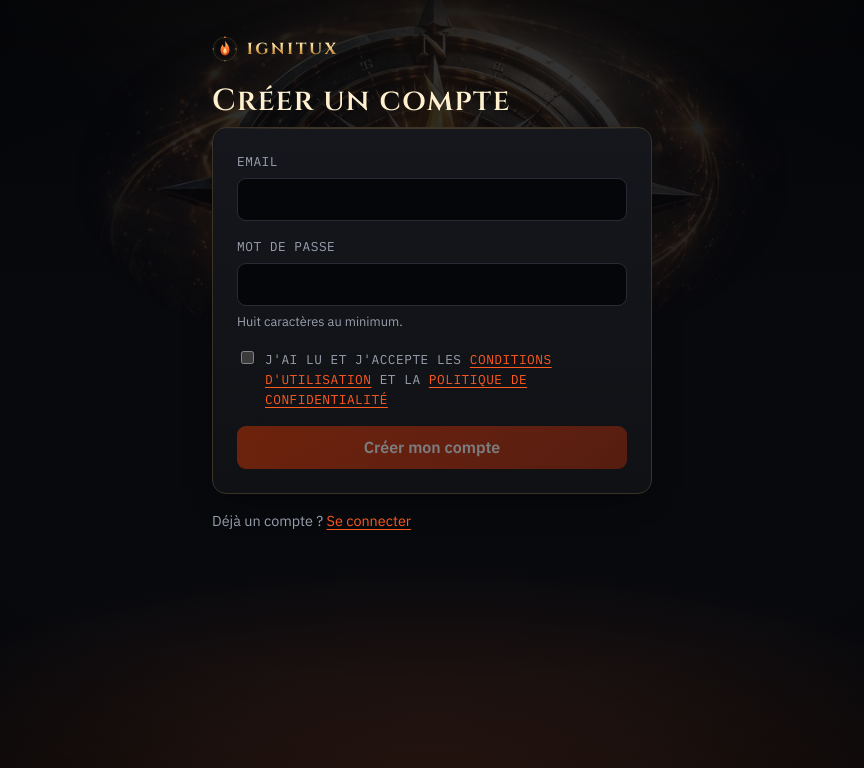
Test case: SignupPage › affiche le message du backend si l'email existe déjà
In the field labelled "Email": (432, 200) [237,178,627,221], type "a@b.com"
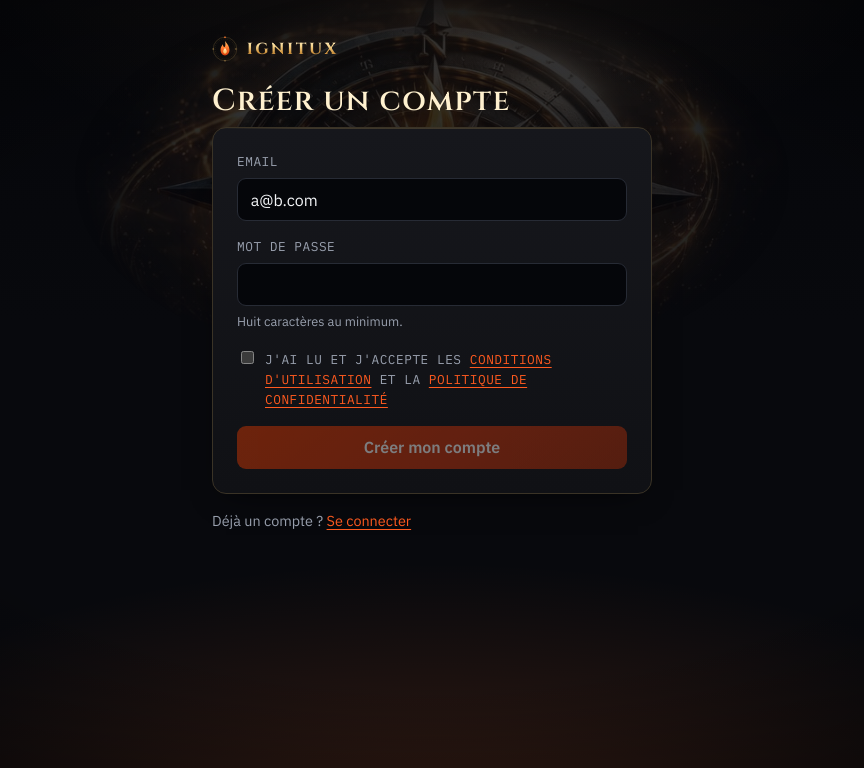
In the password field labelled "Mot de passe": (432, 285) [237,263,627,306], type "motdepasse"
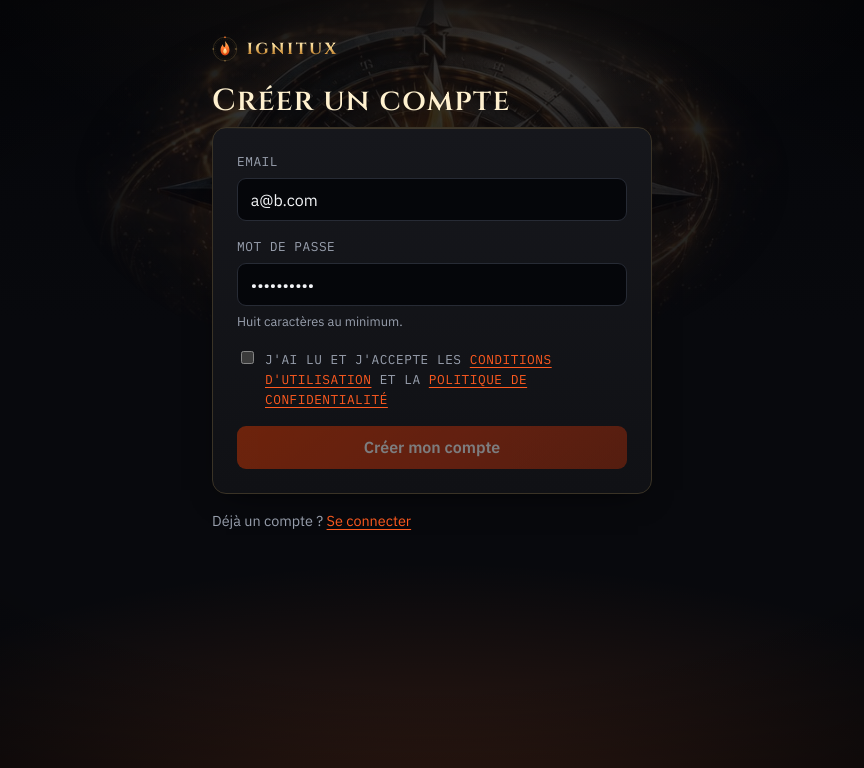
Click the checkbox labelled "J'ai lu et j'accepte": (248, 358) [241,351,254,364]
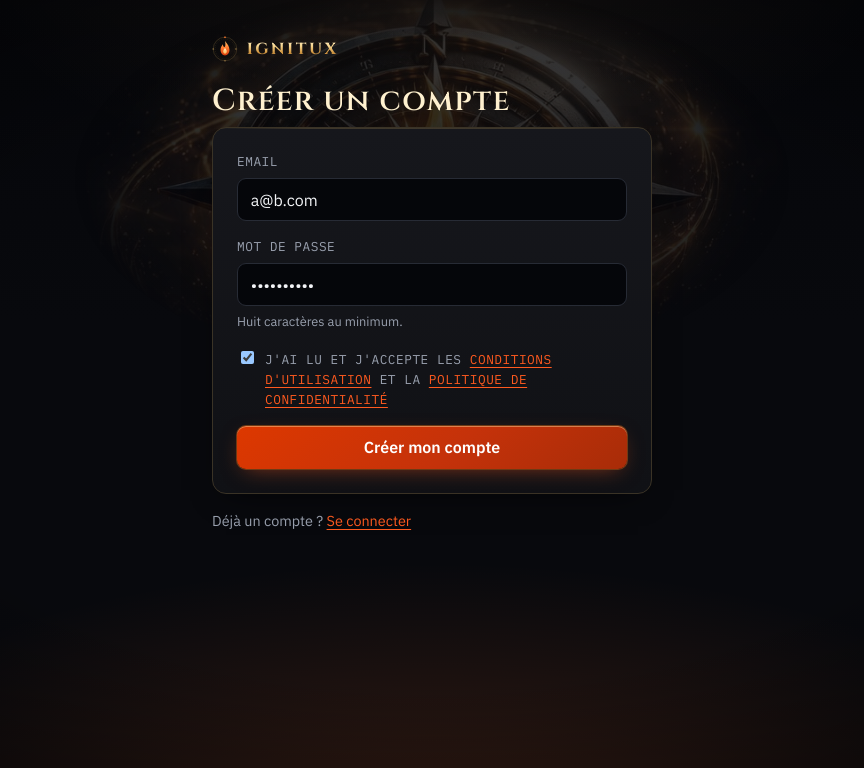
Click the button "Créer mon compte": (432, 447) [237,426,627,469]
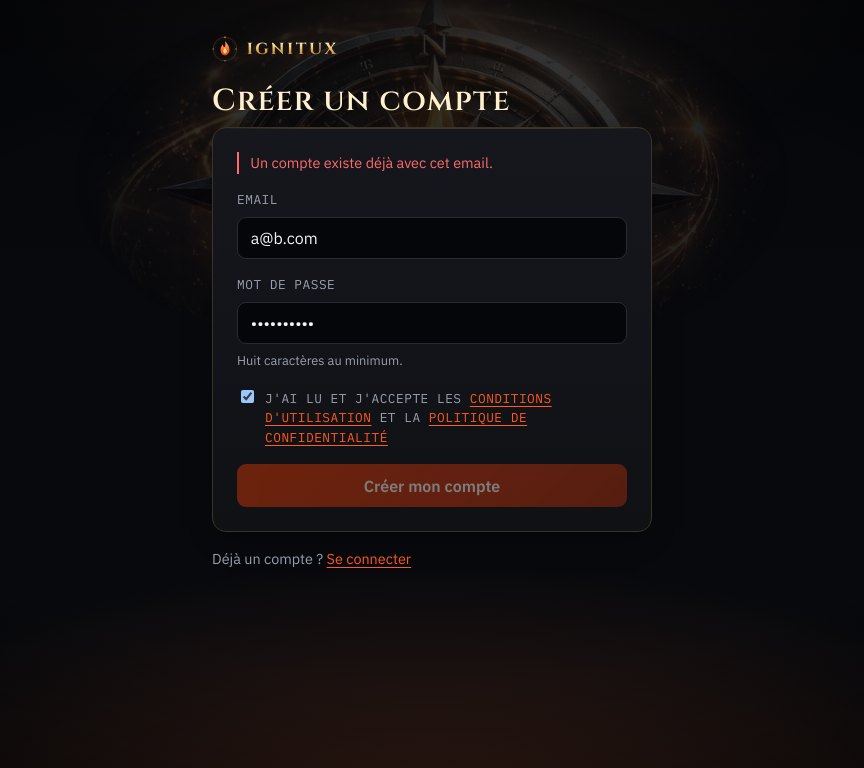
expect the text "Un compte existe déjà avec cet email." is shown: met, box [237,152,627,174]
